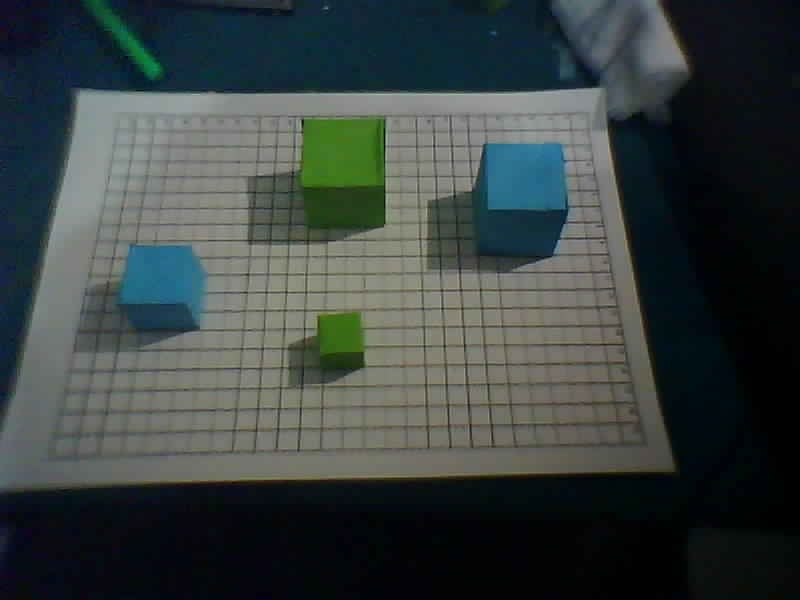LB: (47, 456, 55, 462)
LT: (113, 110, 121, 116)
RB: (642, 441, 650, 447)
RT: (584, 109, 592, 115)
